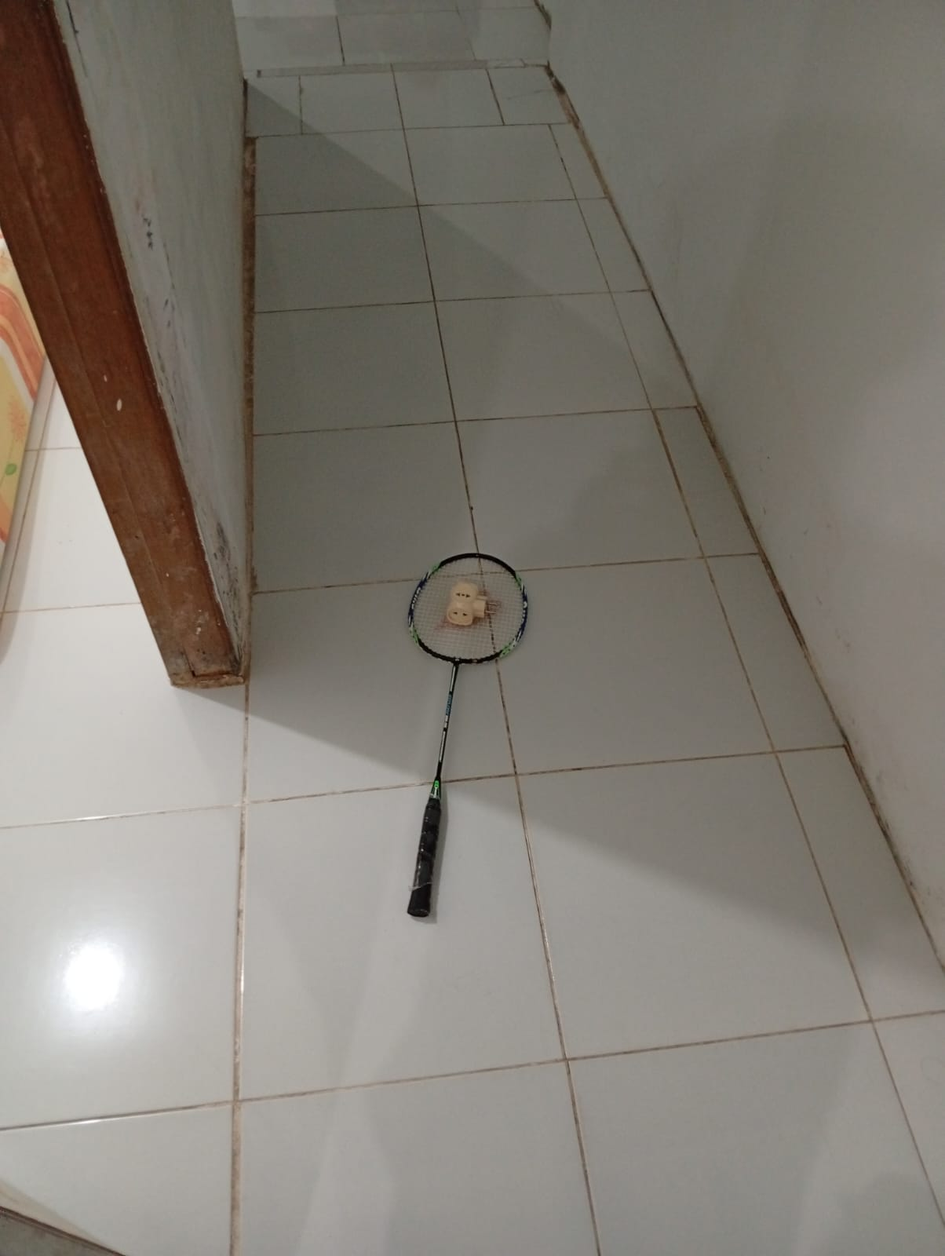Colokan: (436, 569, 506, 639)
